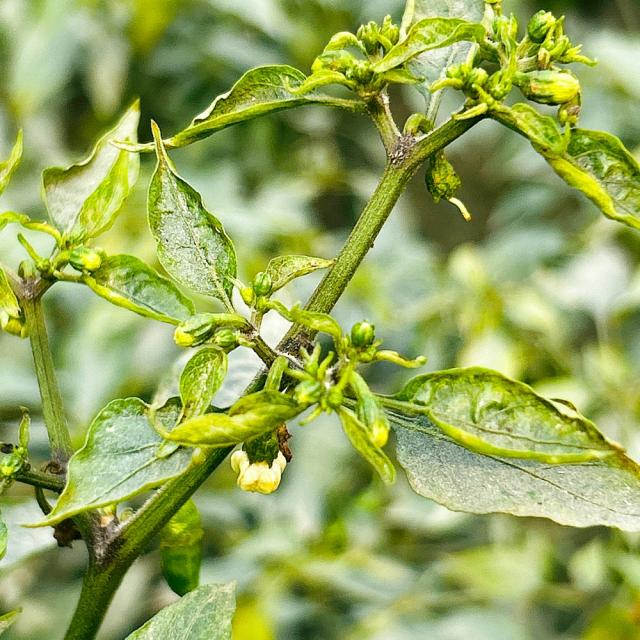Chilli_Leaf_Curl: (1, 2, 638, 634), (380, 364, 638, 533), (20, 394, 196, 531), (488, 100, 638, 230), (144, 119, 239, 310), (164, 62, 366, 150), (299, 14, 487, 101), (39, 95, 142, 252), (82, 252, 196, 326), (123, 579, 238, 638)
